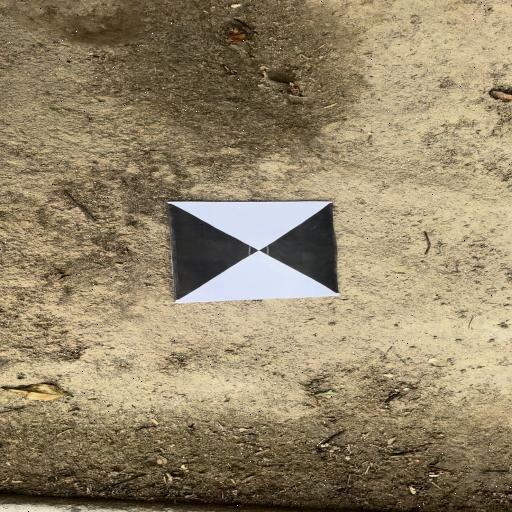target: (168, 202, 336, 297)
